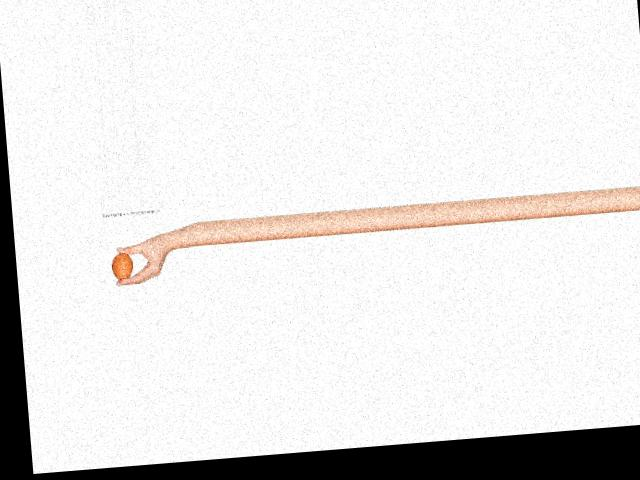egg: (110, 251, 133, 281)
